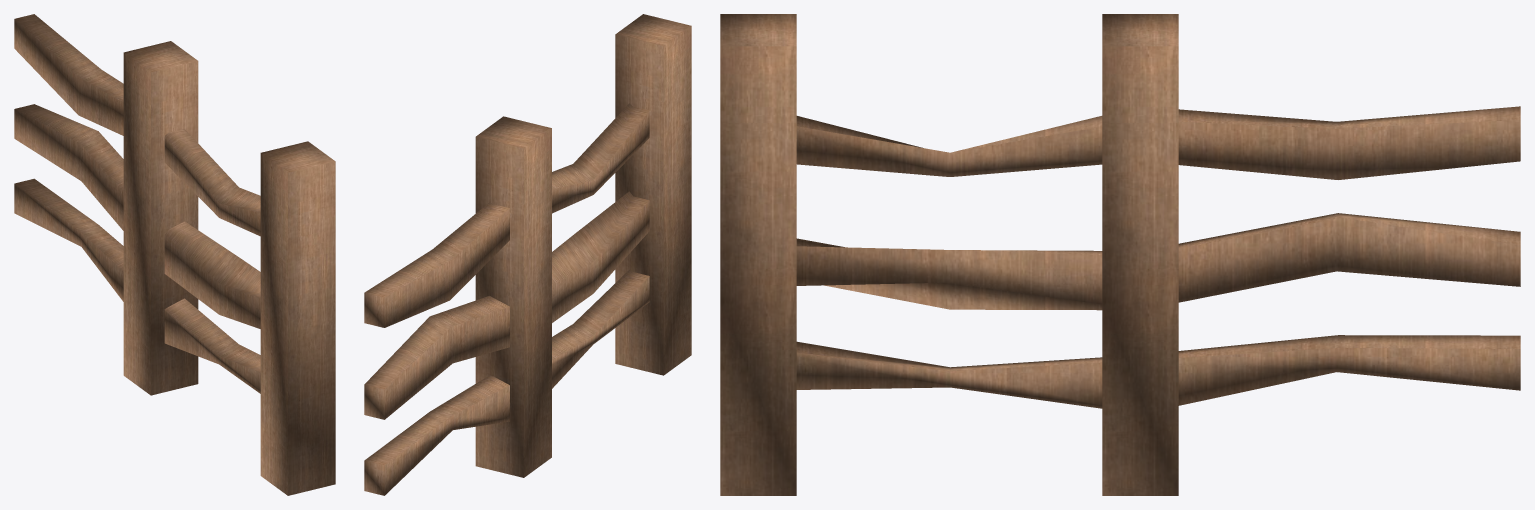
3 renders of one model, left to right at view 1: azimuth 30°, elevation 25°; view 2: azimuth 150°, elevation 25°; view 3: azimuth 270°, elevation 25°, orthographic. The views are drawn at different scales.
Parts seen in each view (by area): view 1: Cube180_Wood_02001_0; view 2: Cube180_Wood_02001_0; view 3: Cube180_Wood_02001_0.
Part boxes in pixels (x1,y1,x2,y2): Cube180_Wood_02001_0: (14, 14, 335, 495); Cube180_Wood_02001_0: (364, 14, 691, 495); Cube180_Wood_02001_0: (720, 14, 1520, 495).
Bounding box in the file's own units: 0.2 × 1.3 × 2.1.
1 material, 1 textured.
